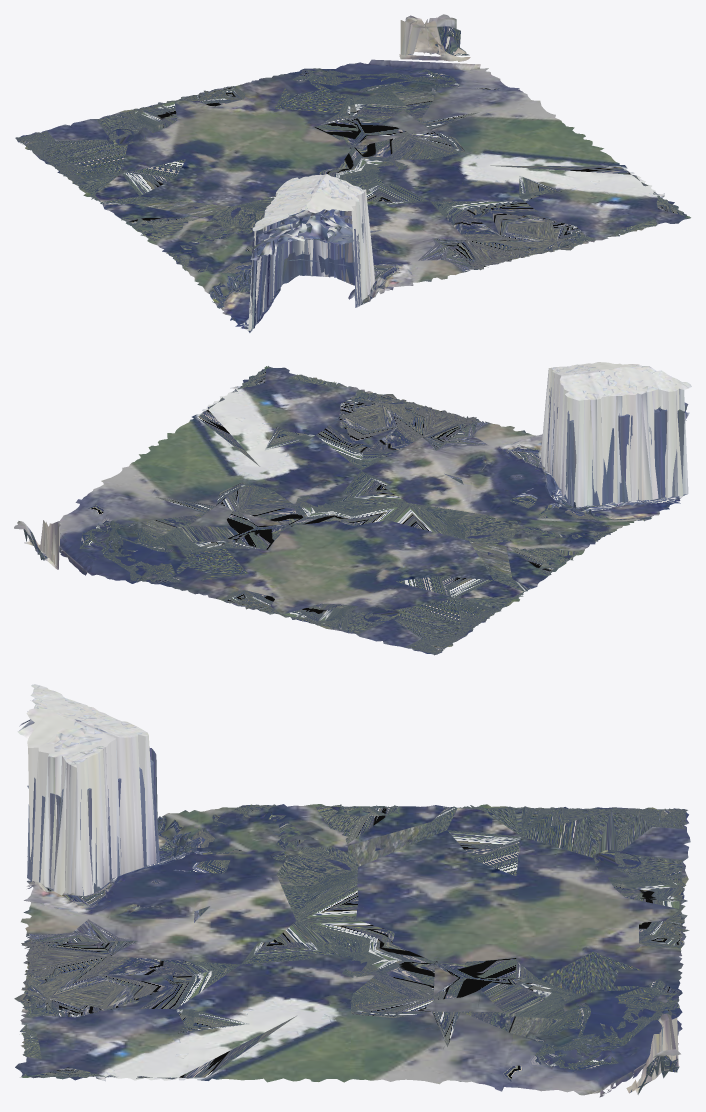
The picture shows the model from 3 angles, top to bottom: view 1: azimuth 30°, elevation 25°; view 2: azimuth 150°, elevation 25°; view 3: azimuth 270°, elevation 25°; orthographic projection. The views are drawn at different scales.
Bounding box in the file's own units: 104 × 25.86 × 105.
1 material, 1 textured.
